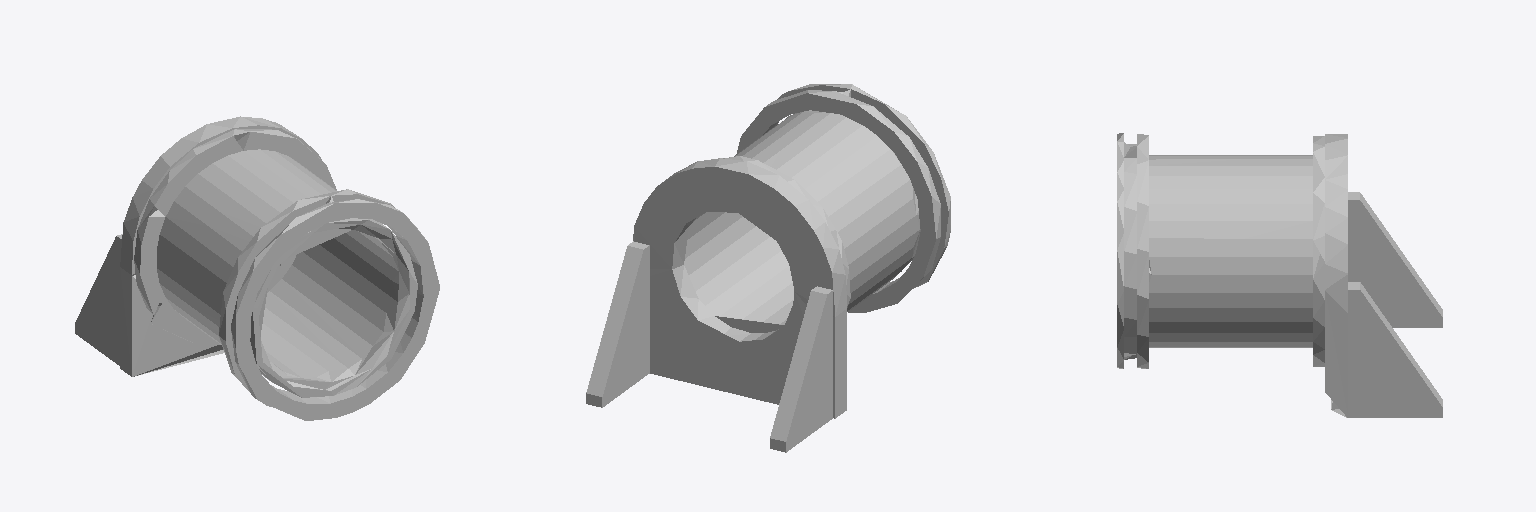
File: dual_rm_75b_description_platform_base_link_visuals_l_base_link1_mesh.obj
3 views of the same model, side by side, from view 1: azimuth 30°, elevation 25°; view 2: azimuth 150°, elevation 25°; view 3: azimuth 270°, elevation 25° (orthographic).
Bounding box in the file's own units: 0.1011 × 0.1058 × 0.1381.